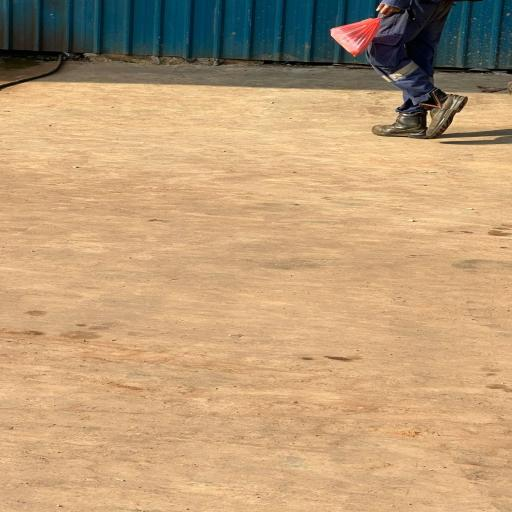safety_shoe: (414, 84, 470, 140), (368, 108, 430, 143)
